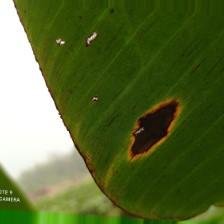cordana: (14, 0, 224, 224)
